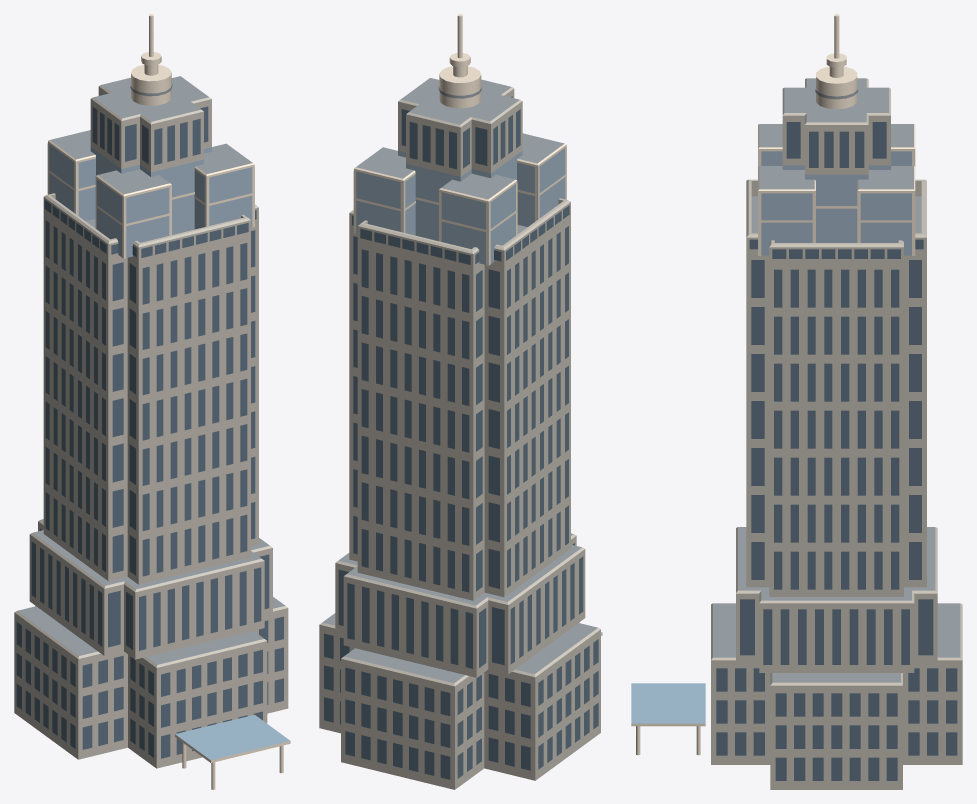
The model's file is amsterdam-rembrandt-tower.glb.
3 views of the same model, side by side, from view 1: azimuth 30°, elevation 25°; view 2: azimuth 150°, elevation 25°; view 3: azimuth 270°, elevation 25° (orthographic). The views are drawn at different scales.
Visible parts, largest first — view 1: Rembrandttoren; view 2: Rembrandttoren; view 3: Rembrandttoren.
Part boxes in pixels (x1=…): Rembrandttoren: x1=14, y1=14, x2=290, y2=789; Rembrandttoren: x1=319, y1=14, x2=602, y2=789; Rembrandttoren: x1=631, y1=14, x2=962, y2=789.
Bounding box in the file's own units: 47.48 × 150 × 62.44.
